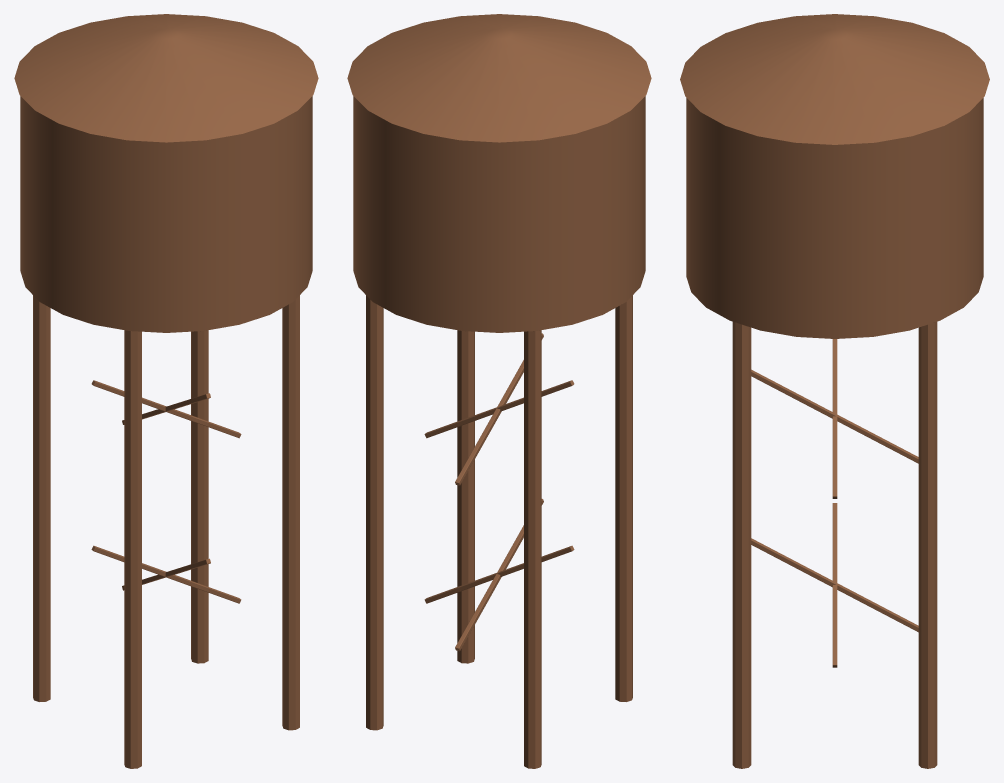
Rendered from water_tower.glb.
3 views of the same model, side by side, from view 1: azimuth 30°, elevation 25°; view 2: azimuth 150°, elevation 25°; view 3: azimuth 270°, elevation 25° (orthographic).
Visible parts, largest first — view 1: Tank, Roof, Leg, Leg.002, Leg.001, Leg.003, Brace.002, Brace; view 2: Tank, Roof, Leg.001, Leg.003, Leg, Leg.002, Brace.003, Brace.001, Brace.002, Brace; view 3: Tank, Roof, Leg.002, Leg.003, Brace.003, Brace.001, Brace, Brace.002.
Part boxes in pixels (x1,y1,x2,y2): Tank: (20,96,312,332); Roof: (14,14,318,142); Leg: (124,330,141,768); Leg.002: (282,295,299,730); Leg.001: (33,295,50,701); Leg.003: (191,330,208,663); Brace.002: (91,380,241,438); Brace: (91,545,241,603); Tank: (353,96,645,332); Roof: (347,14,651,142); Leg.001: (524,330,541,768); Leg.003: (366,295,383,730); Leg: (615,295,632,701); Leg.002: (457,330,474,663); Brace.003: (455,333,543,485); Brace.001: (455,499,543,651); Brace.002: (424,380,574,438); Brace: (424,545,574,603); Tank: (686,98,983,338); Roof: (680,14,989,144); Leg.002: (732,322,751,768); Leg.003: (918,322,937,768); Brace.003: (751,369,918,463); Brace.001: (751,538,918,632); Brace: (832,503,837,667); Brace.002: (832,339,837,498).
Size of the model in its own units: 5 by 12.3 by 5.
